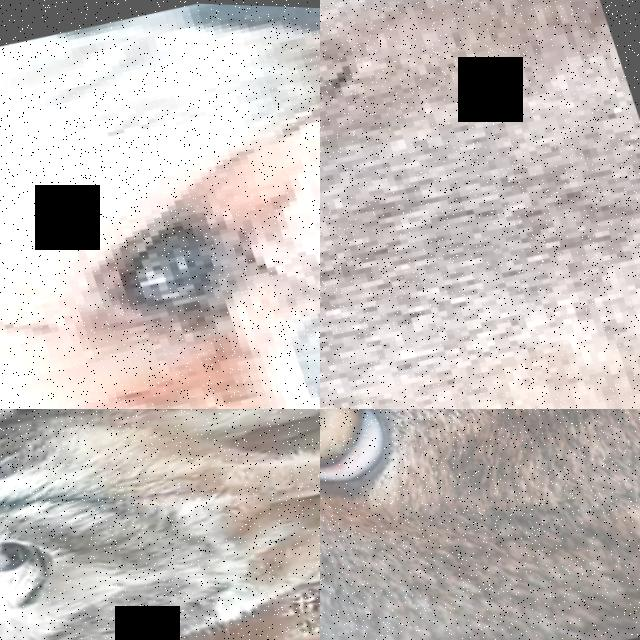dog: (0, 0, 320, 409)
wolf: (320, 0, 640, 409), (0, 409, 320, 640), (320, 409, 640, 640), (0, 534, 320, 640), (0, 409, 320, 500)
